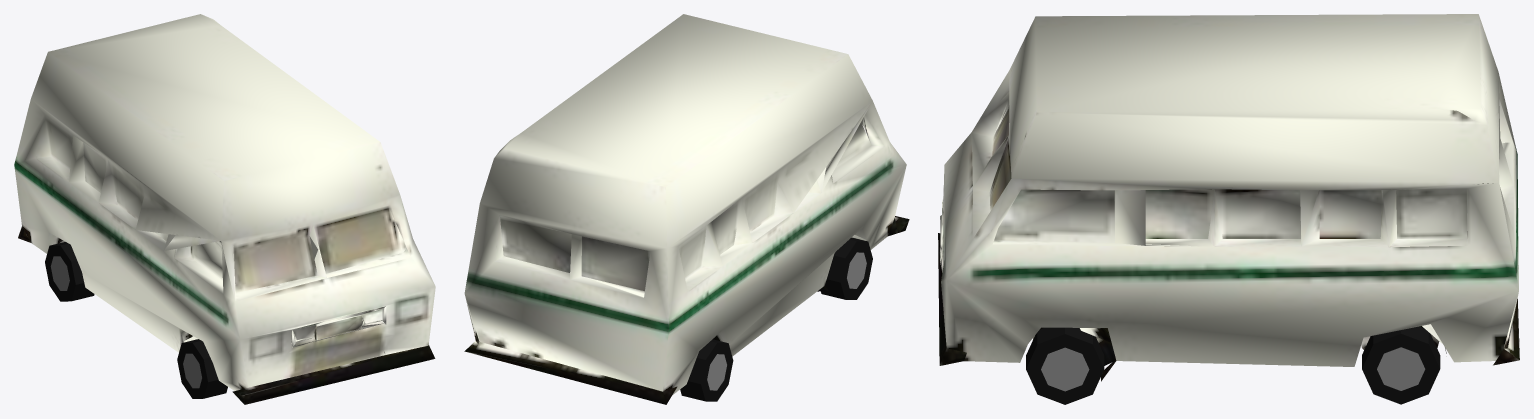
The model's file is danfo-white-green-far.glb.
3 views of the same model, side by side, from view 1: azimuth 30°, elevation 25°; view 2: azimuth 150°, elevation 25°; view 3: azimuth 270°, elevation 25° (orthographic). The views are drawn at different scales.
Visible parts, largest first — view 1: danfo-far; view 2: danfo-far; view 3: danfo-far.
Part boxes in pixels (<box>): danfo-far: <box>14,14,435,404</box>; danfo-far: <box>464,14,909,404</box>; danfo-far: <box>938,14,1519,404</box>.
Bounding box in the file's own units: 2.42 × 2.64 × 4.92.
Materials: 1 (1 with a texture image).
